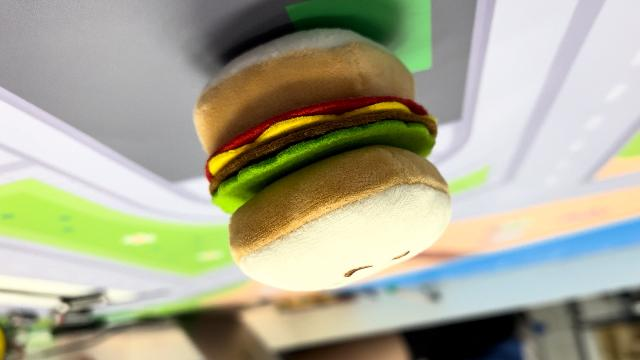sandwich: (190, 27, 454, 293)
